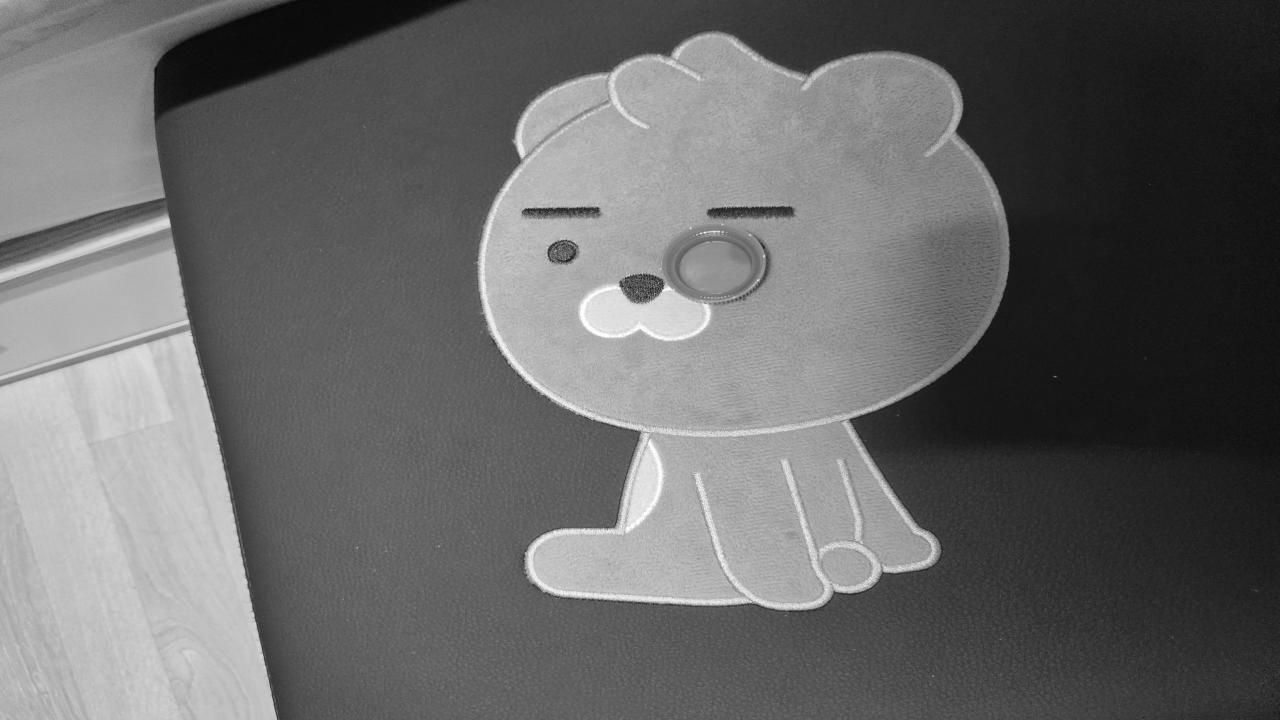bottle_cap: (662, 224, 766, 303)
